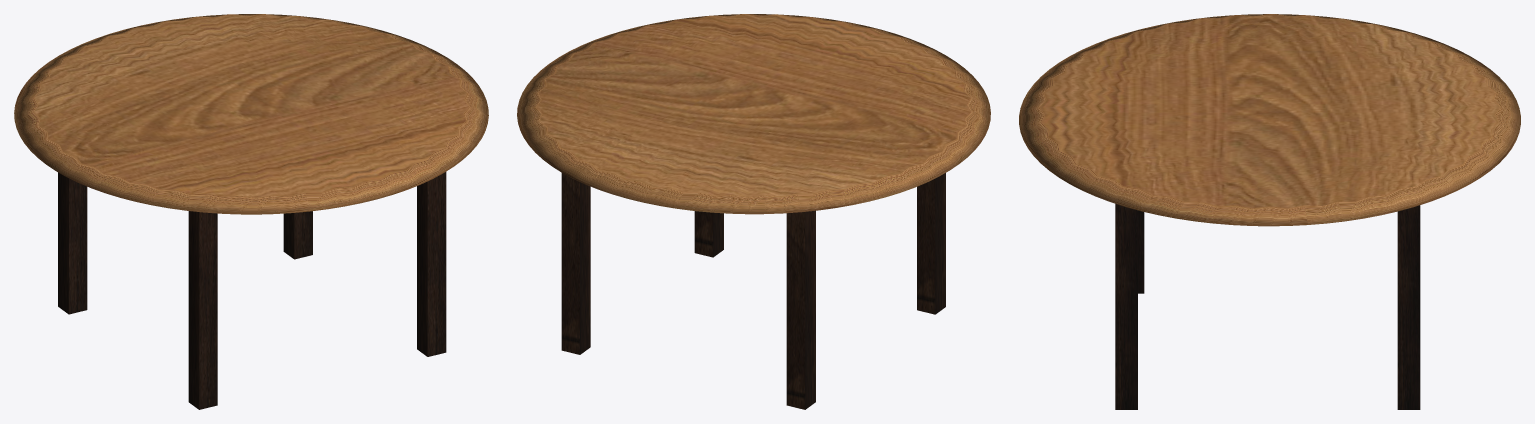
Rendered from mesa2_model.fbx.
The picture shows the model from 3 angles, left to right: view 1: azimuth 30°, elevation 25°; view 2: azimuth 150°, elevation 25°; view 3: azimuth 270°, elevation 25°; orthographic projection. The views are drawn at different scales.
Visible parts, largest first — view 1: pCylinder1, pCube1, pCube5, pCube2, pCube3; view 2: pCylinder1, pCube2, pCube3, pCube1, pCube5; view 3: pCylinder1, pCube3, pCube5, pCube1.
Boxes of the visible parts, x1,y1,x2,y2 form: pCylinder1: (14,14,488,214); pCube1: (188,211,217,409); pCube5: (417,172,446,356); pCube2: (58,172,87,314); pCube3: (283,211,312,259); pCylinder1: (517,14,990,214); pCube2: (786,210,815,409); pCube3: (561,173,590,354); pCube1: (917,173,945,314); pCube5: (694,211,723,257); pCylinder1: (1019,14,1520,226); pCube3: (1397,205,1420,409); pCube5: (1115,204,1137,409); pCube1: (1138,210,1144,293).
Bounding box in the file's own units: 13.37 × 7.02 × 13.37.
